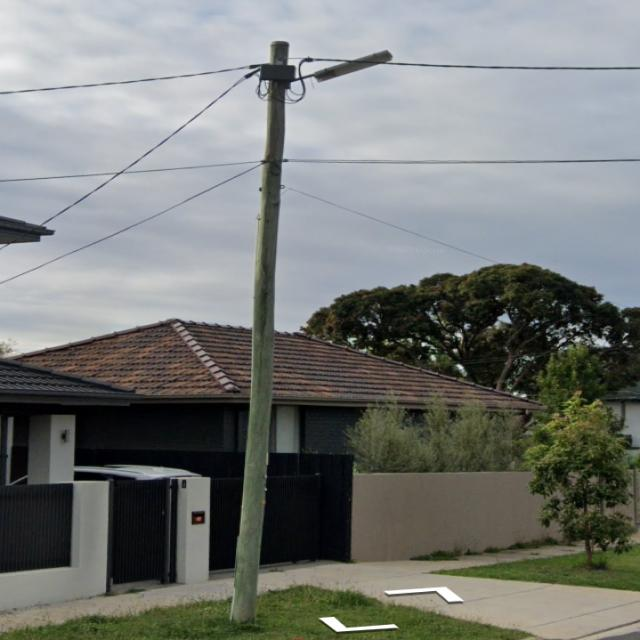streetlight: (293, 49, 396, 84)
timber-pole: (229, 39, 293, 626)
top mount suitable pole: (228, 39, 396, 625)
